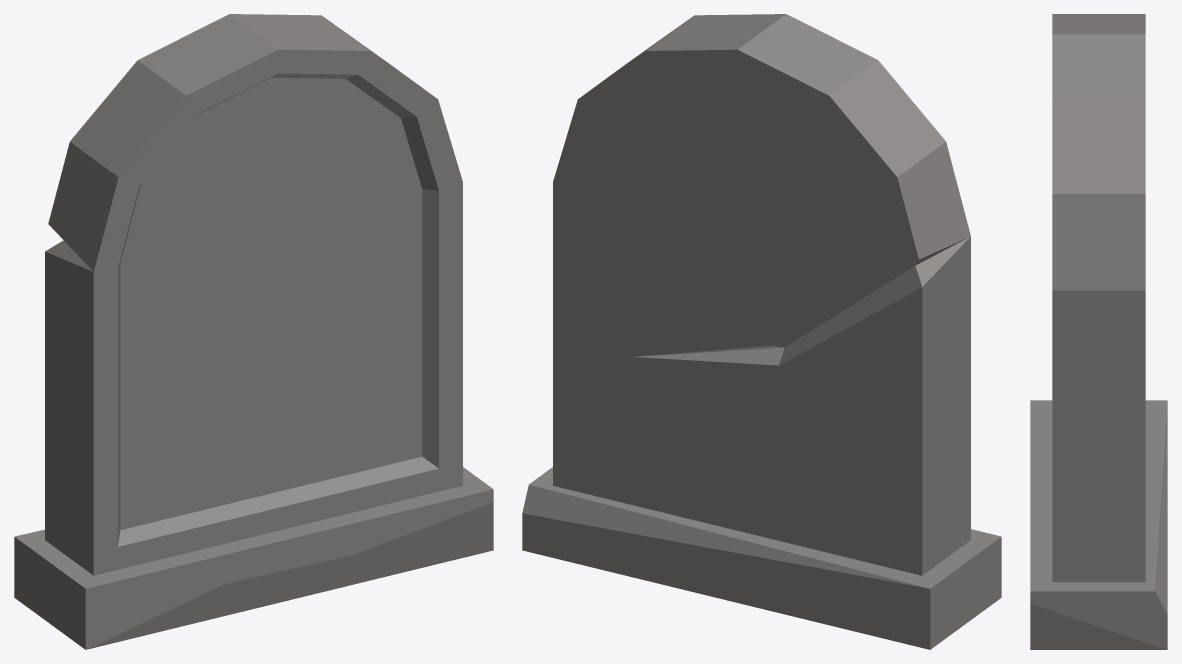
Rendered from SM_Props_Graveyard_04.fbx.
3 views of the same model, side by side, from view 1: azimuth 30°, elevation 25°; view 2: azimuth 150°, elevation 25°; view 3: azimuth 270°, elevation 25° (orthographic). The views are drawn at different scales.
Parts seen in each view (by area): view 1: SM_Props_Graveyard_04; view 2: SM_Props_Graveyard_04; view 3: SM_Props_Graveyard_04.
Boxes of the visible parts, <box> form: SM_Props_Graveyard_04: <box>14,14,493,649</box>; SM_Props_Graveyard_04: <box>522,14,1001,649</box>; SM_Props_Graveyard_04: <box>1030,14,1167,649</box>.
Size of the model in its own units: 209 by 266 by 63.54.
